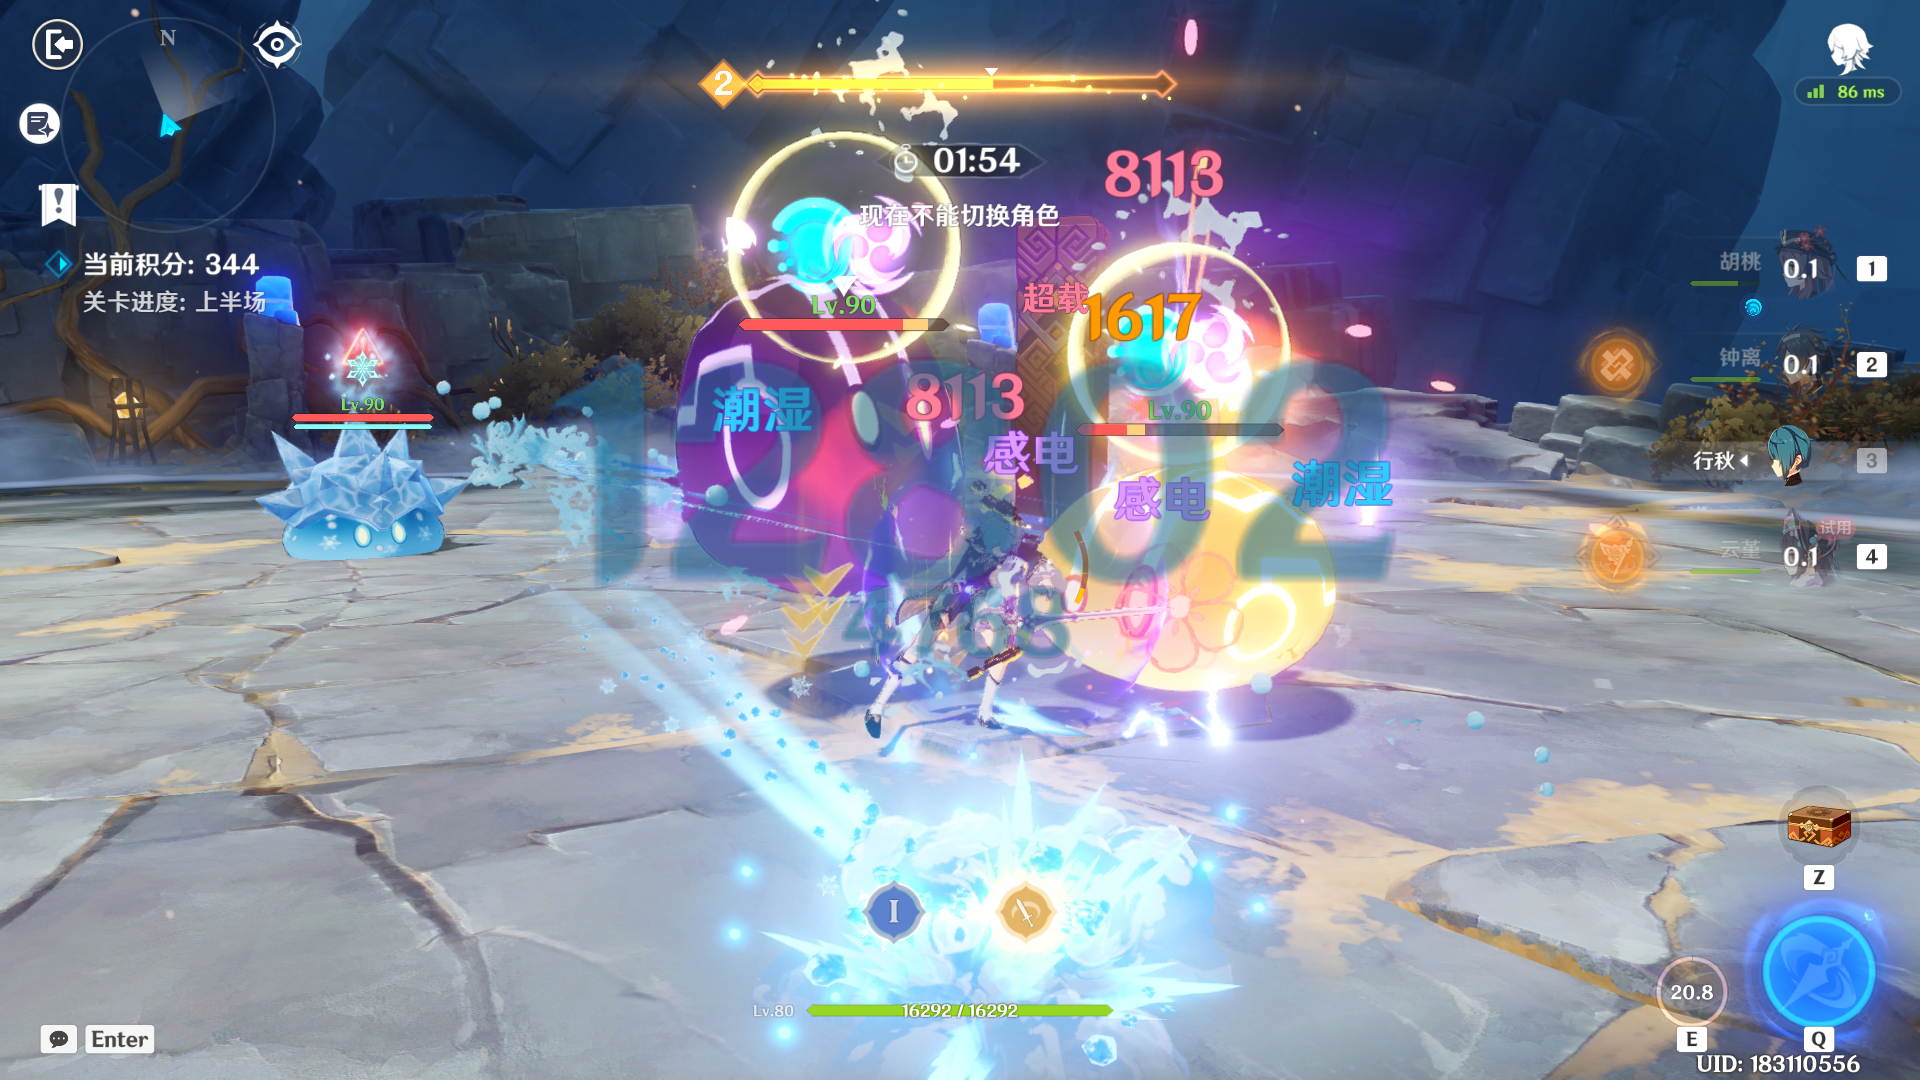slime: (636, 281, 982, 596), (1005, 439, 1360, 724), (244, 415, 462, 589)
